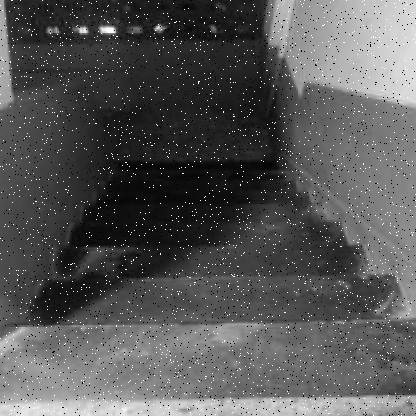stair_down: (14, 236, 385, 375)
